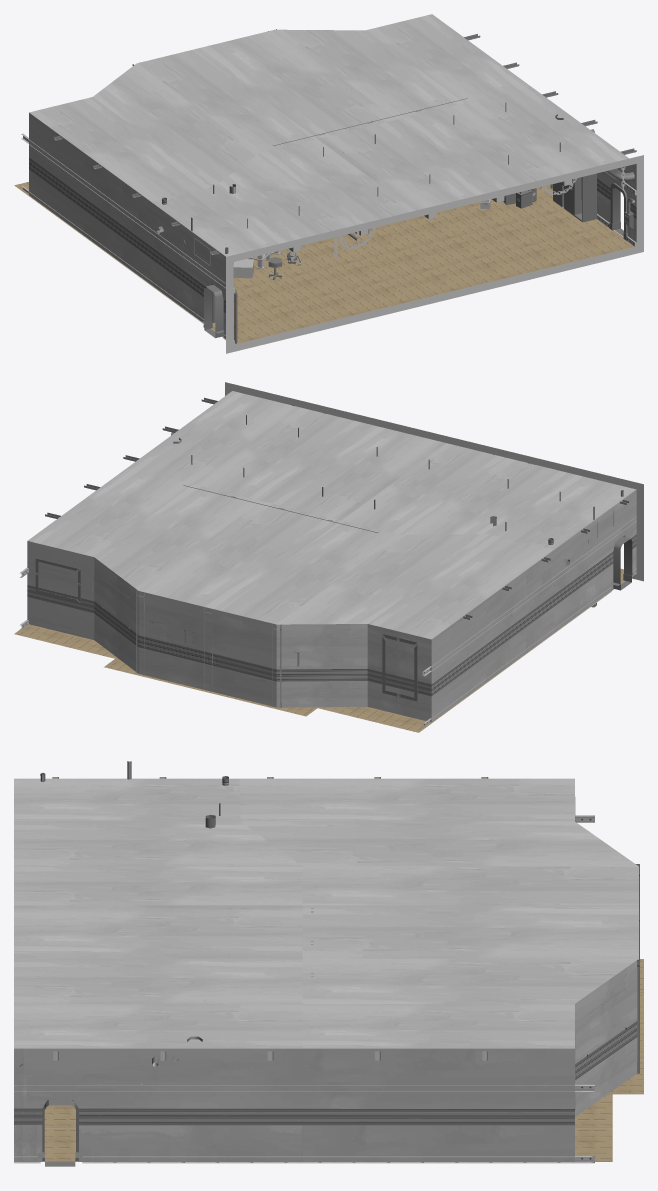
File: MSH_QuestBOSPowerArmor_L1_R3_optimized.fbx
The picture shows the model from 3 angles, top to bottom: view 1: azimuth 30°, elevation 25°; view 2: azimuth 150°, elevation 25°; view 3: azimuth 270°, elevation 25°; orthographic projection. The views are drawn at different scales.
Visible parts, largest first — view 1: lightmap0, lightmap1, lightmap6, MSH_QuesBOSPowerArmor_L1_R3_Black_01, lightmap2, lightmap4, lightmap7; view 2: lightmap0, lightmap6, MSH_QuesBOSPowerArmor_L1_R3_Black_01, lightmap1, lightmap2, lightmap4, lightmap5; view 3: lightmap0, lightmap6, lightmap1, lightmap2, lightmap4.
Part boxes in pixels (x1,y1,x2,y2): lightmap0: (29,14,628,256); lightmap1: (14,182,634,344); lightmap6: (29,113,636,338); MSH_QuesBOSPowerArmor_L1_R3_Black_01: (226,155,643,353); lightmap2: (21,29,636,340); lightmap4: (202,182,627,338); lightmap7: (156,114,634,343); lightmap0: (27,391,636,639); lightmap6: (27,489,636,722); MSH_QuesBOSPowerArmor_L1_R3_Black_01: (225,382,643,581); lightmap1: (14,568,636,732); lightmap2: (20,397,636,727); lightmap4: (612,535,634,590); lightmap5: (35,558,80,602); lightmap0: (14,778,638,1048); lightmap6: (14,959,638,1161); lightmap1: (42,959,643,1161); lightmap2: (14,777,639,1163); lightmap4: (38,1100,82,1166).
Size of the model in its own units: 31.5 by 7.5 by 29.5.
Materials: 4 (3 with a texture image).
